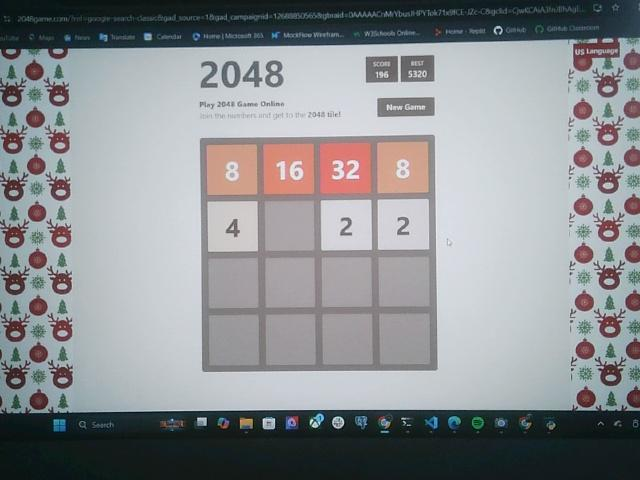board: (201, 137, 437, 372)
tile: (321, 199, 373, 251), (321, 143, 372, 194), (378, 199, 430, 249), (264, 143, 314, 194), (208, 202, 258, 253), (378, 143, 428, 194), (207, 145, 257, 195)
